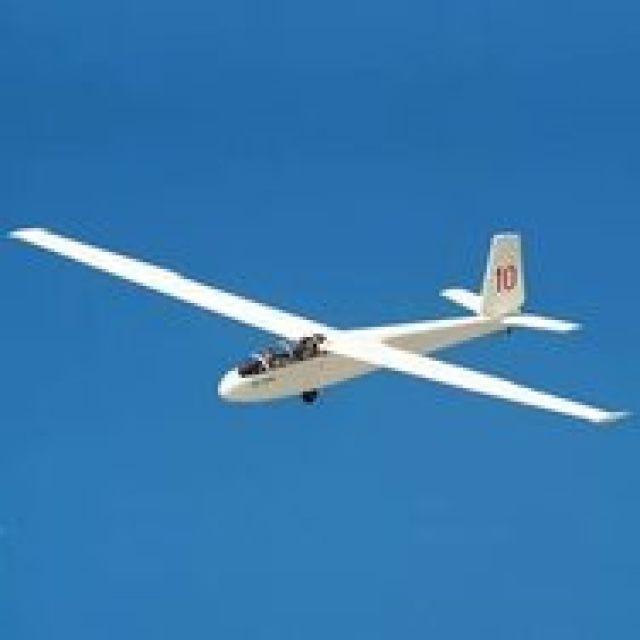military drone: (6, 226, 631, 424)
